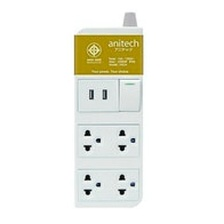three_eye_plug: (66, 24, 148, 211)
